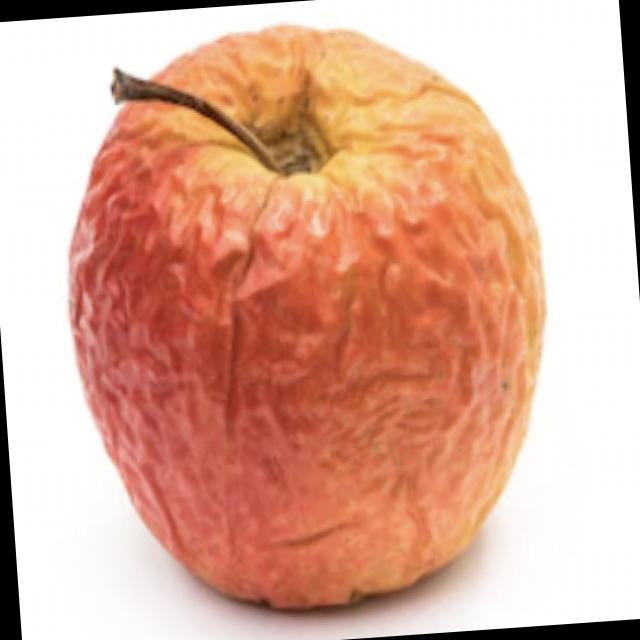rotten_apple: (48, 6, 565, 626)
